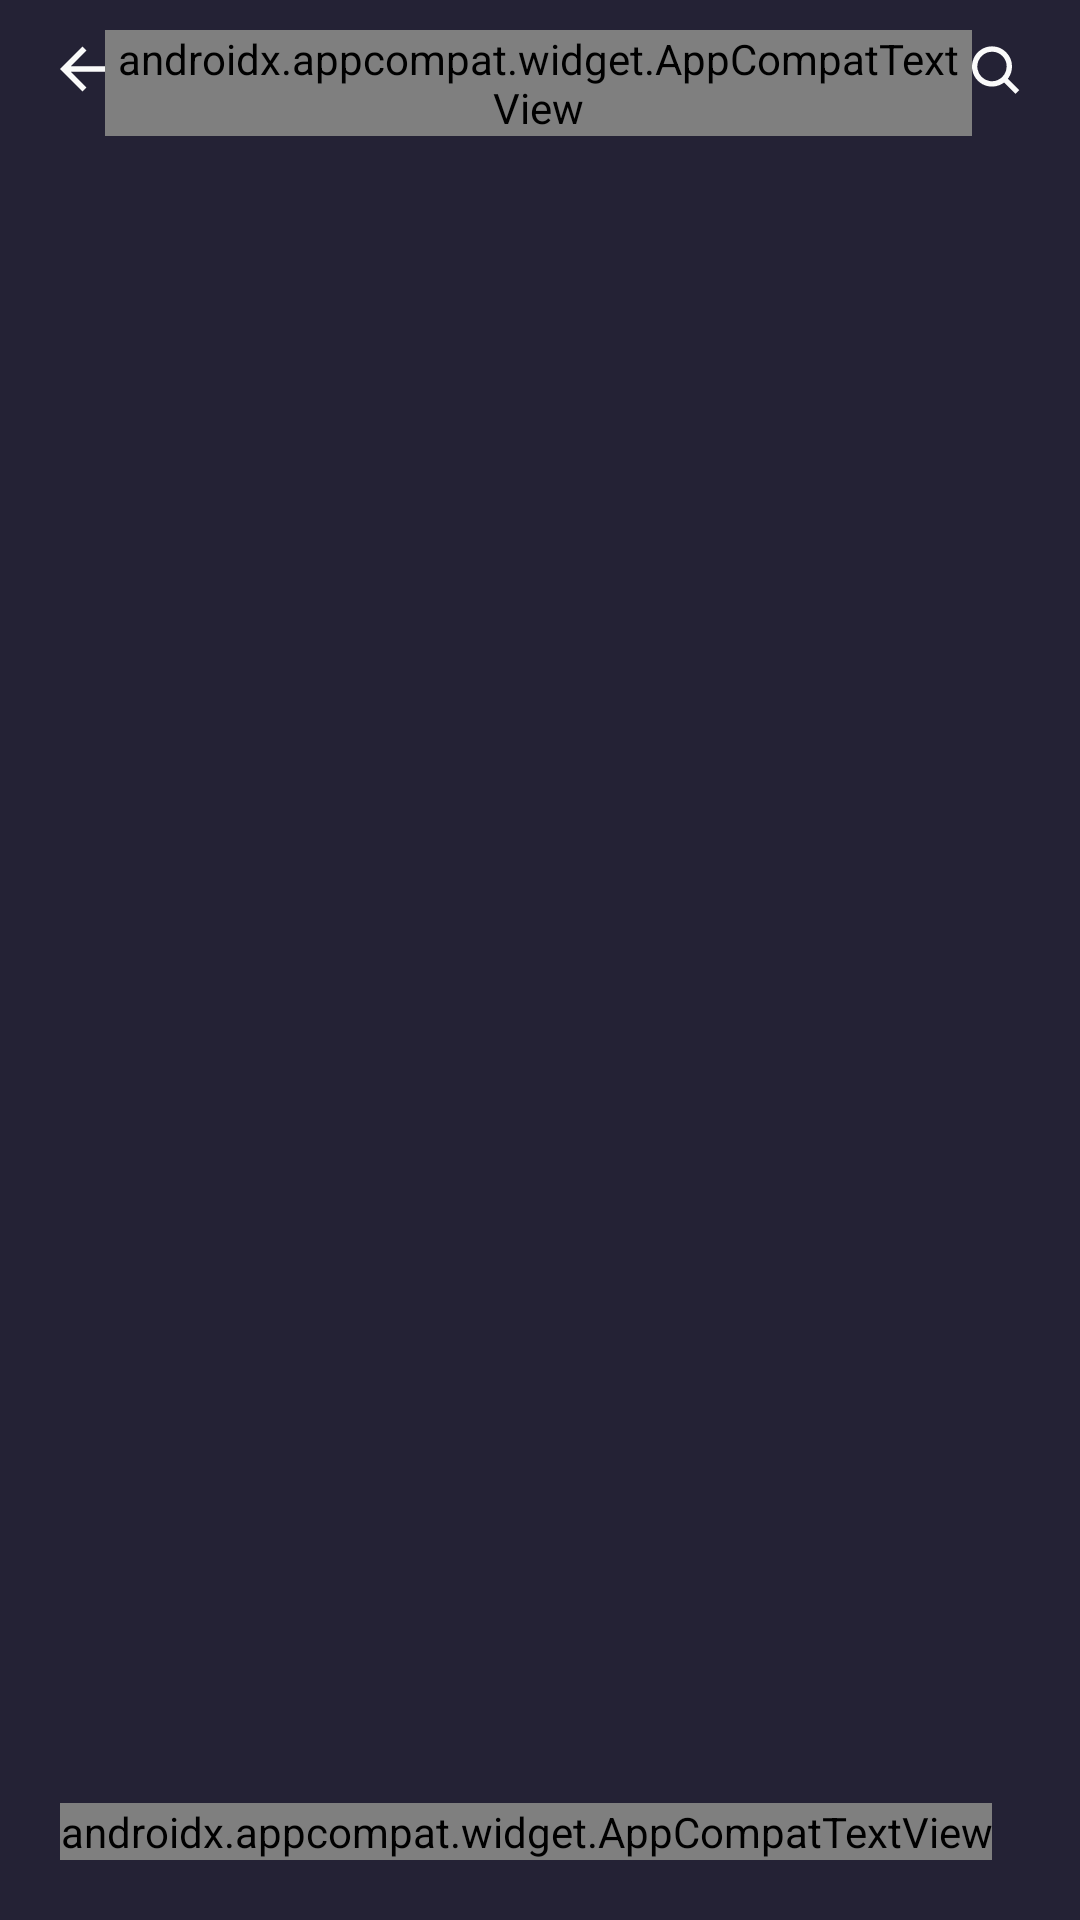

Point at icon controls on the screen. Image size 1080×1920, points as (x=x, y=y).
back arrow: (x=82, y=69)
search: (x=995, y=70)
